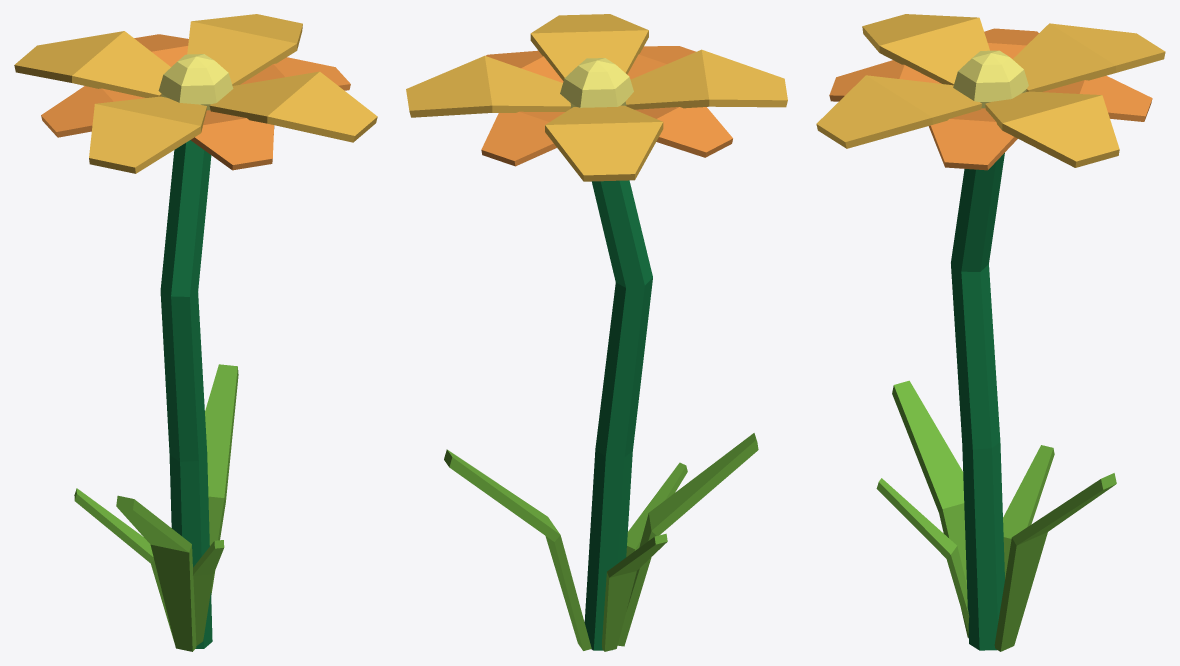
File: Flower_Yellow.fbx
3 views of the same model, side by side, from view 1: azimuth 30°, elevation 25°; view 2: azimuth 150°, elevation 25°; view 3: azimuth 270°, elevation 25° (orthographic).
Visible parts, largest first — view 1: Flower_Yellow; view 2: Flower_Yellow; view 3: Flower_Yellow.
Boxes of the visible parts, x1,y1,x2,y2 form: Flower_Yellow: (14, 14, 377, 651); Flower_Yellow: (406, 14, 787, 651); Flower_Yellow: (816, 14, 1165, 651).
Size of the model in its own units: 9.74 by 18.21 by 9.74.
